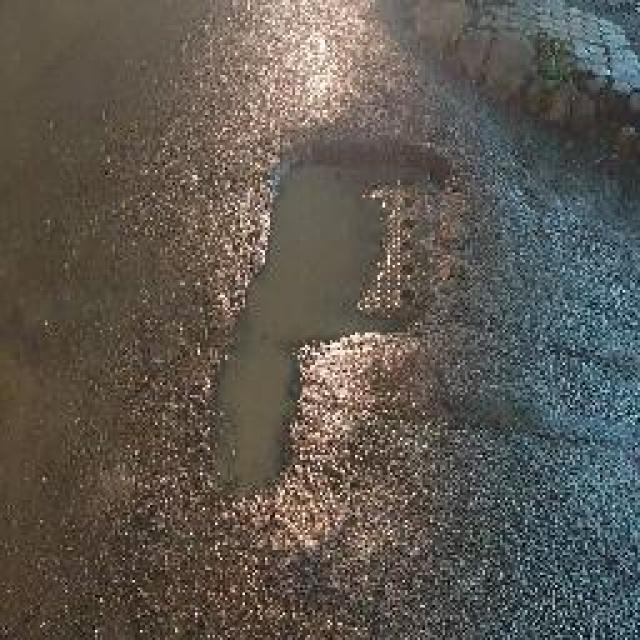puddle: (200, 157, 441, 508)
